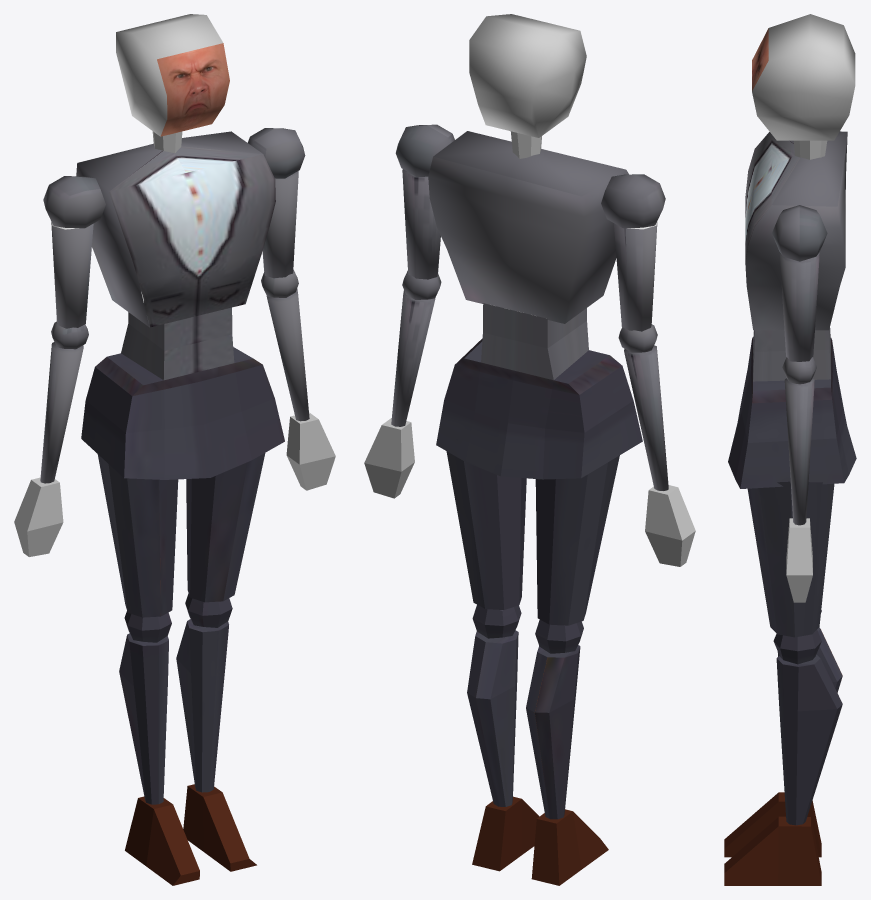
File: jefe.fbx
3 renders of one model, left to right at view 1: azimuth 30°, elevation 25°; view 2: azimuth 150°, elevation 25°; view 3: azimuth 270°, elevation 25°, orthographic. The views are drawn at different scales.
Parts seen in each view (by area): view 1: torso.001, cabeza(expresion); view 2: torso.001, cabeza(expresion); view 3: torso.001, cabeza(expresion).
Boxes of the visible parts, left/top/right/bottom form: torso.001: left=14, top=128, right=335, bottom=885; cabeza(expresion): left=116, top=14, right=229, bottom=136; torso.001: left=364, top=124, right=695, bottom=885; cabeza(expresion): left=469, top=14, right=586, bottom=137; torso.001: left=724, top=131, right=856, bottom=885; cabeza(expresion): left=752, top=14, right=855, bottom=140.
Bounding box in the file's own units: 184 × 467 × 67.33.
